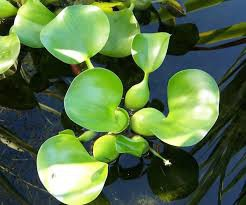water_hyacinth: (1, 1, 220, 204)
